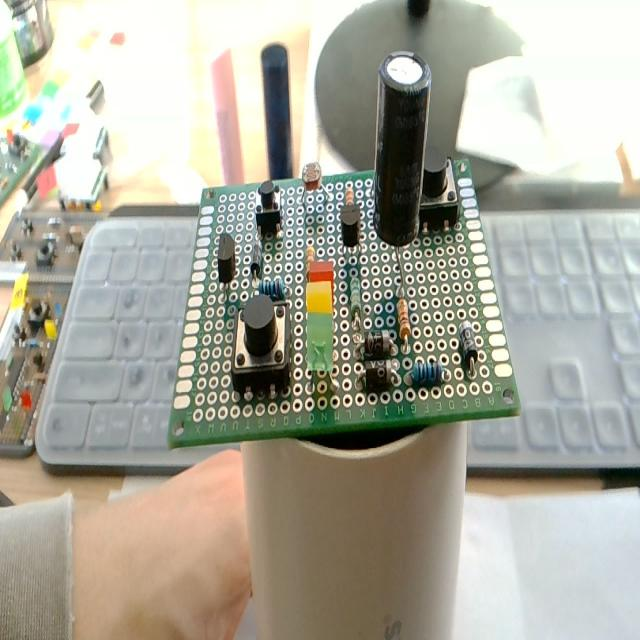Electrolytic capacitor: (369, 41, 425, 298)
cds: (299, 160, 333, 208)
diode: (355, 356, 401, 396), (356, 322, 400, 356), (457, 316, 475, 386), (248, 234, 262, 284)
led: (299, 308, 342, 412)
resistor: (405, 350, 445, 390), (394, 295, 418, 357), (345, 273, 367, 333)
switch: (233, 304, 295, 402), (251, 180, 286, 238)
transistor: (213, 233, 238, 309), (337, 203, 370, 260)
